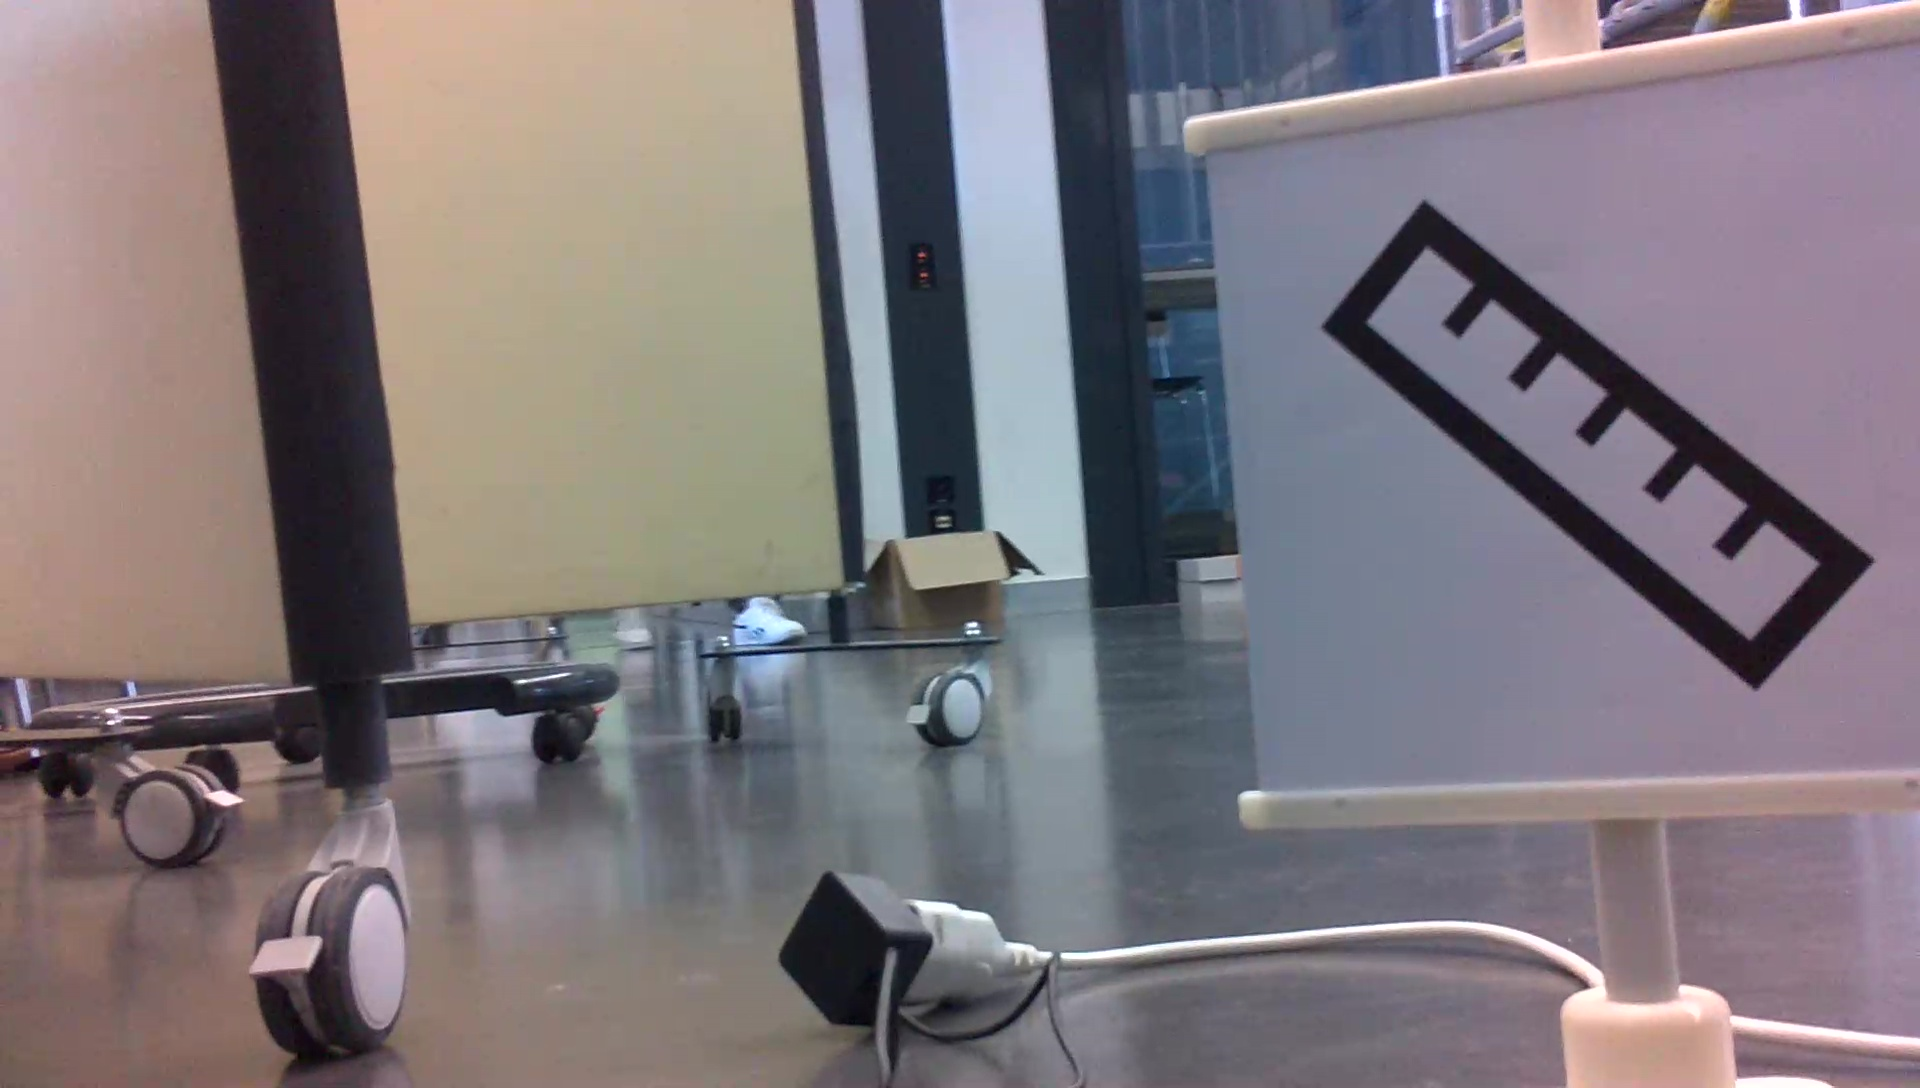ruler: (1303, 199, 1873, 706)
